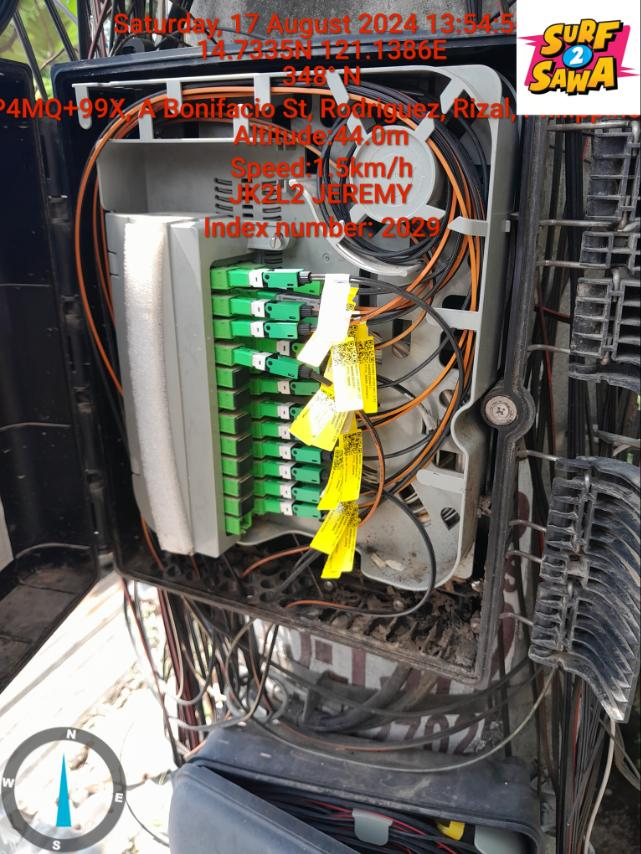no dust cap: (238, 511, 252, 535)
occupied: (232, 344, 313, 386), (230, 298, 314, 321), (229, 267, 312, 290), (263, 441, 333, 468), (261, 397, 328, 425), (256, 269, 329, 294), (257, 289, 331, 313), (232, 321, 314, 342), (265, 482, 331, 506), (265, 461, 333, 484), (263, 337, 330, 360), (260, 309, 327, 332), (264, 357, 329, 378), (263, 424, 324, 446), (263, 501, 330, 521), (260, 377, 327, 396)
vacant: (231, 366, 251, 390), (234, 386, 252, 409), (234, 411, 251, 435), (238, 455, 254, 479), (239, 475, 254, 498), (241, 492, 255, 516), (238, 434, 253, 456)
